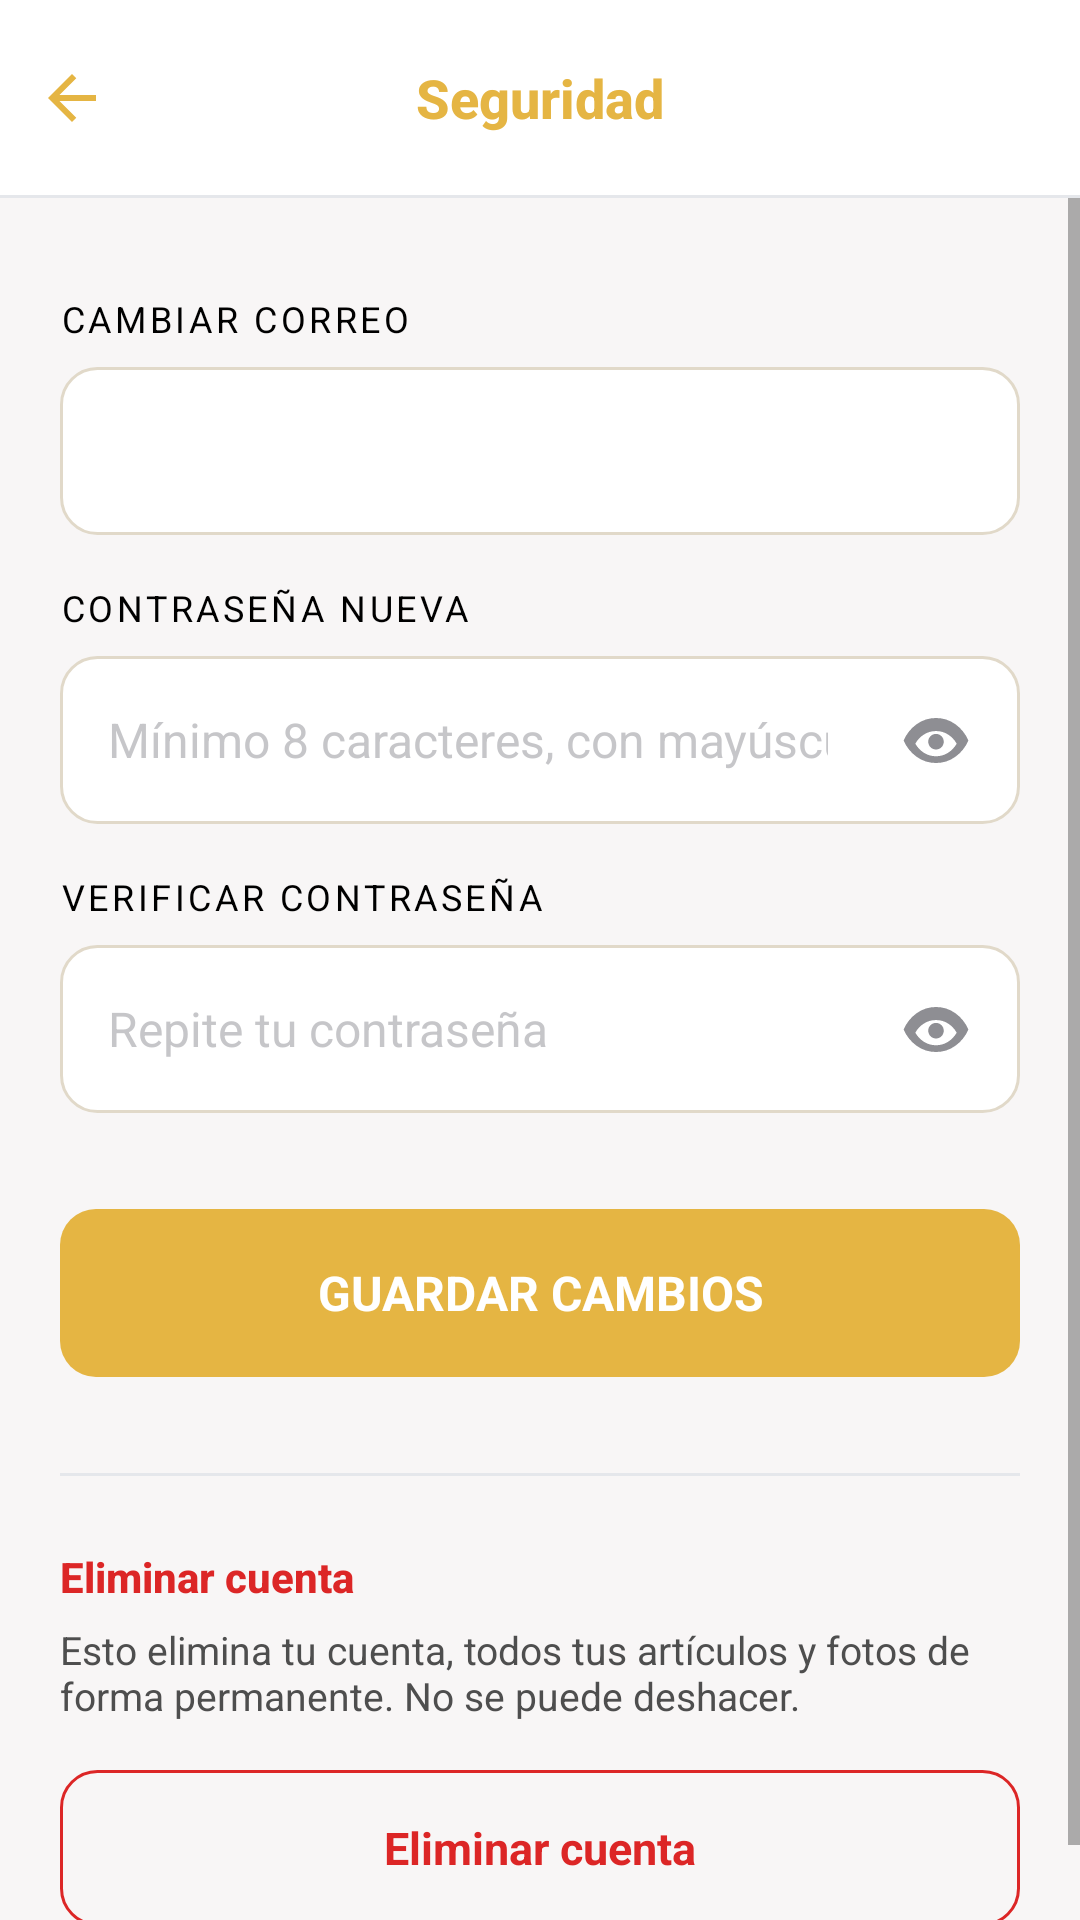

Locate icon controls on the screen. Image size 1080x1920, boxes as (x1,y1,x2,y2).
Mostrar u ocultar contraseña: (903,718,969,763), (903,1007,969,1052)
Volver: (48,74,96,122)
